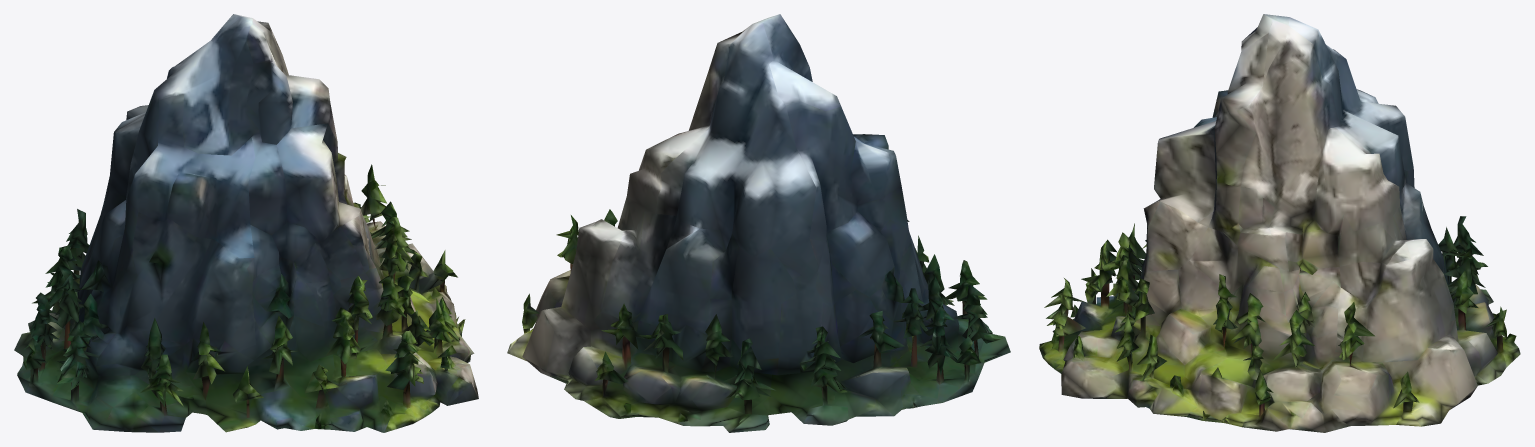
Rendered from crag_peak.glb.
3 views of the same model, side by side, from view 1: azimuth 30°, elevation 25°; view 2: azimuth 150°, elevation 25°; view 3: azimuth 270°, elevation 25° (orthographic). The views are drawn at different scales.
Parts seen in each view (by area): view 1: tripo_node_3f1ba6f3-7489-4754-a1af-eb64c8bb0f0f; view 2: tripo_node_3f1ba6f3-7489-4754-a1af-eb64c8bb0f0f; view 3: tripo_node_3f1ba6f3-7489-4754-a1af-eb64c8bb0f0f.
Part boxes in pixels (x1,y1,x2,y2): tripo_node_3f1ba6f3-7489-4754-a1af-eb64c8bb0f0f: [14, 14, 478, 432]; tripo_node_3f1ba6f3-7489-4754-a1af-eb64c8bb0f0f: [507, 14, 1010, 432]; tripo_node_3f1ba6f3-7489-4754-a1af-eb64c8bb0f0f: [1039, 14, 1520, 432].
Bounding box in the file's own units: 0.9774 × 0.7209 × 0.9791.
Materials: 1 (1 with a texture image).
